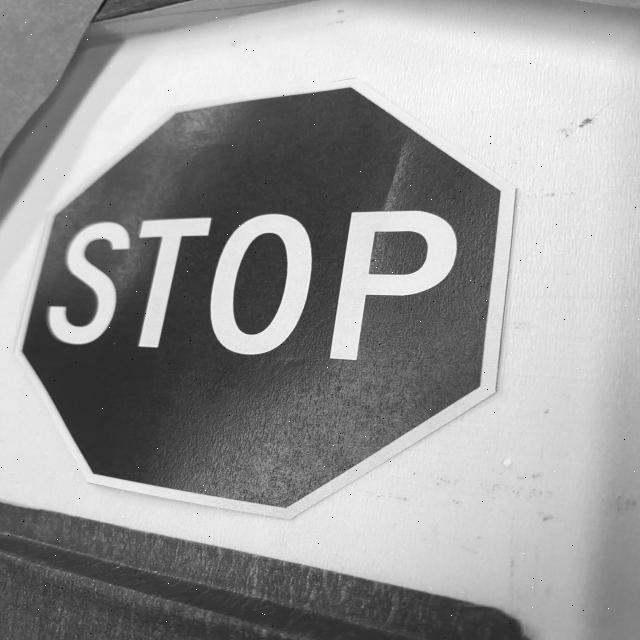stop: (11, 73, 528, 523)
